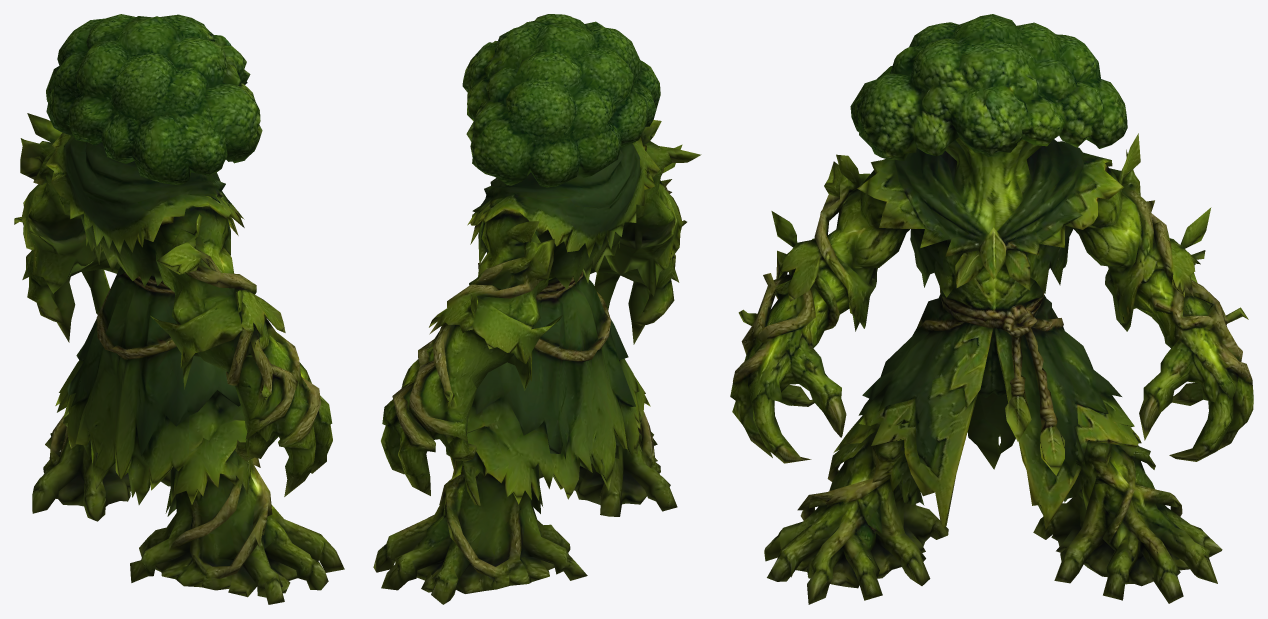
Rendered from stage3.glb.
The picture shows the model from 3 angles, left to right: view 1: azimuth 30°, elevation 25°; view 2: azimuth 150°, elevation 25°; view 3: azimuth 270°, elevation 25°; orthographic projection. The views are drawn at different scales.
Parts seen in each view (by area): view 1: tripo_node_725a264d-0369-4640-bd7c-bfa678067efa; view 2: tripo_node_725a264d-0369-4640-bd7c-bfa678067efa; view 3: tripo_node_725a264d-0369-4640-bd7c-bfa678067efa.
Part boxes in pixels (x1,y1,x2,y2): tripo_node_725a264d-0369-4640-bd7c-bfa678067efa: (14, 14, 344, 604); tripo_node_725a264d-0369-4640-bd7c-bfa678067efa: (373, 14, 701, 604); tripo_node_725a264d-0369-4640-bd7c-bfa678067efa: (730, 14, 1253, 604).
Size of the model in its own units: 0.3879 by 1 by 0.8934.
1 material, 1 textured.
